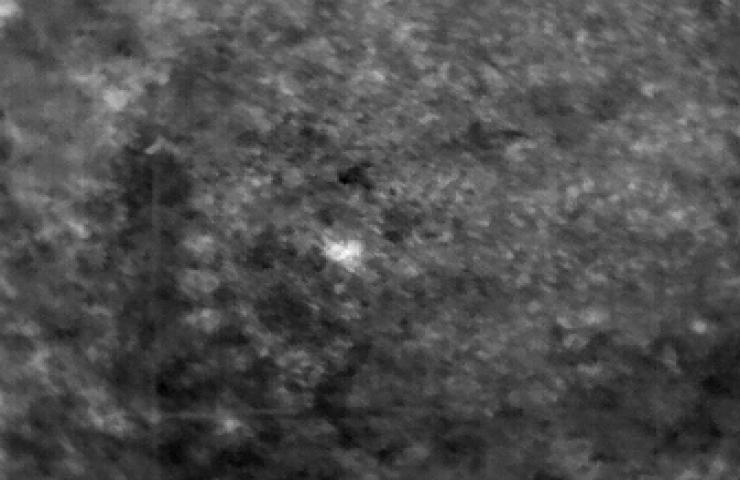landmines: (324, 239, 364, 266)
